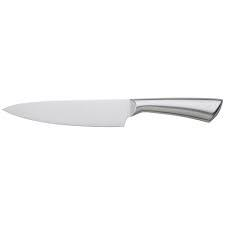Knife: (0, 97, 223, 127)
